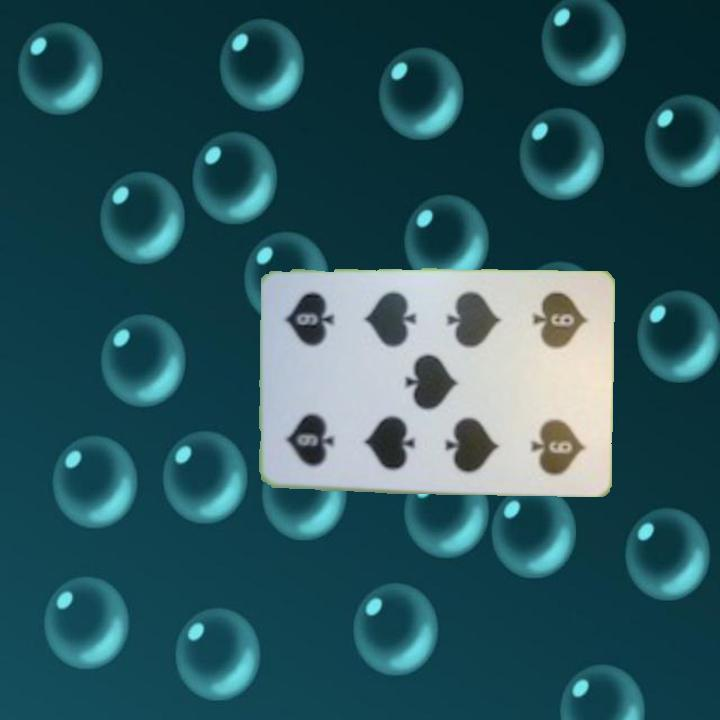s_9.png: (273, 375, 361, 476), (511, 285, 598, 386)
